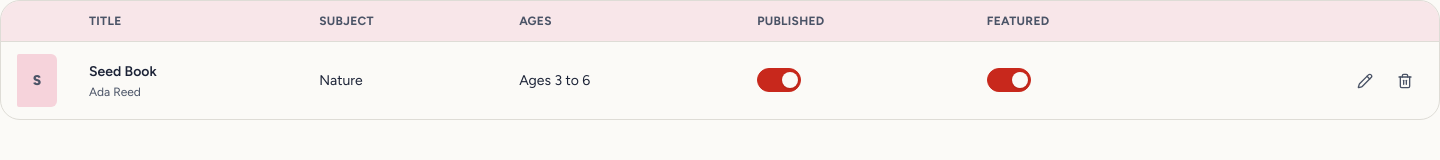
Scenario: BookTable › toggles published with a PATCH of the whole book
Click the switch named "Published: Seed Book" at (779,80), box [757,68,801,92]
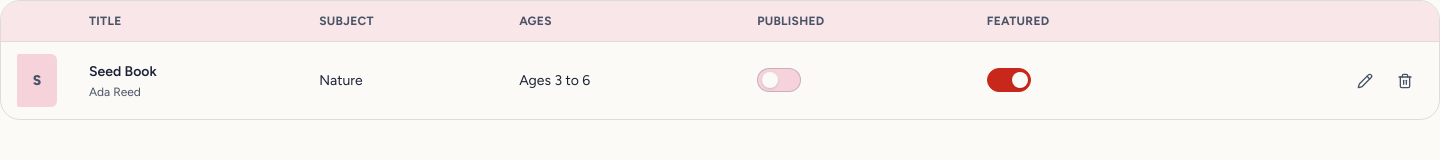
Expected: the switch named "Published: Seed Book" is not checked, [757,68,801,92]
